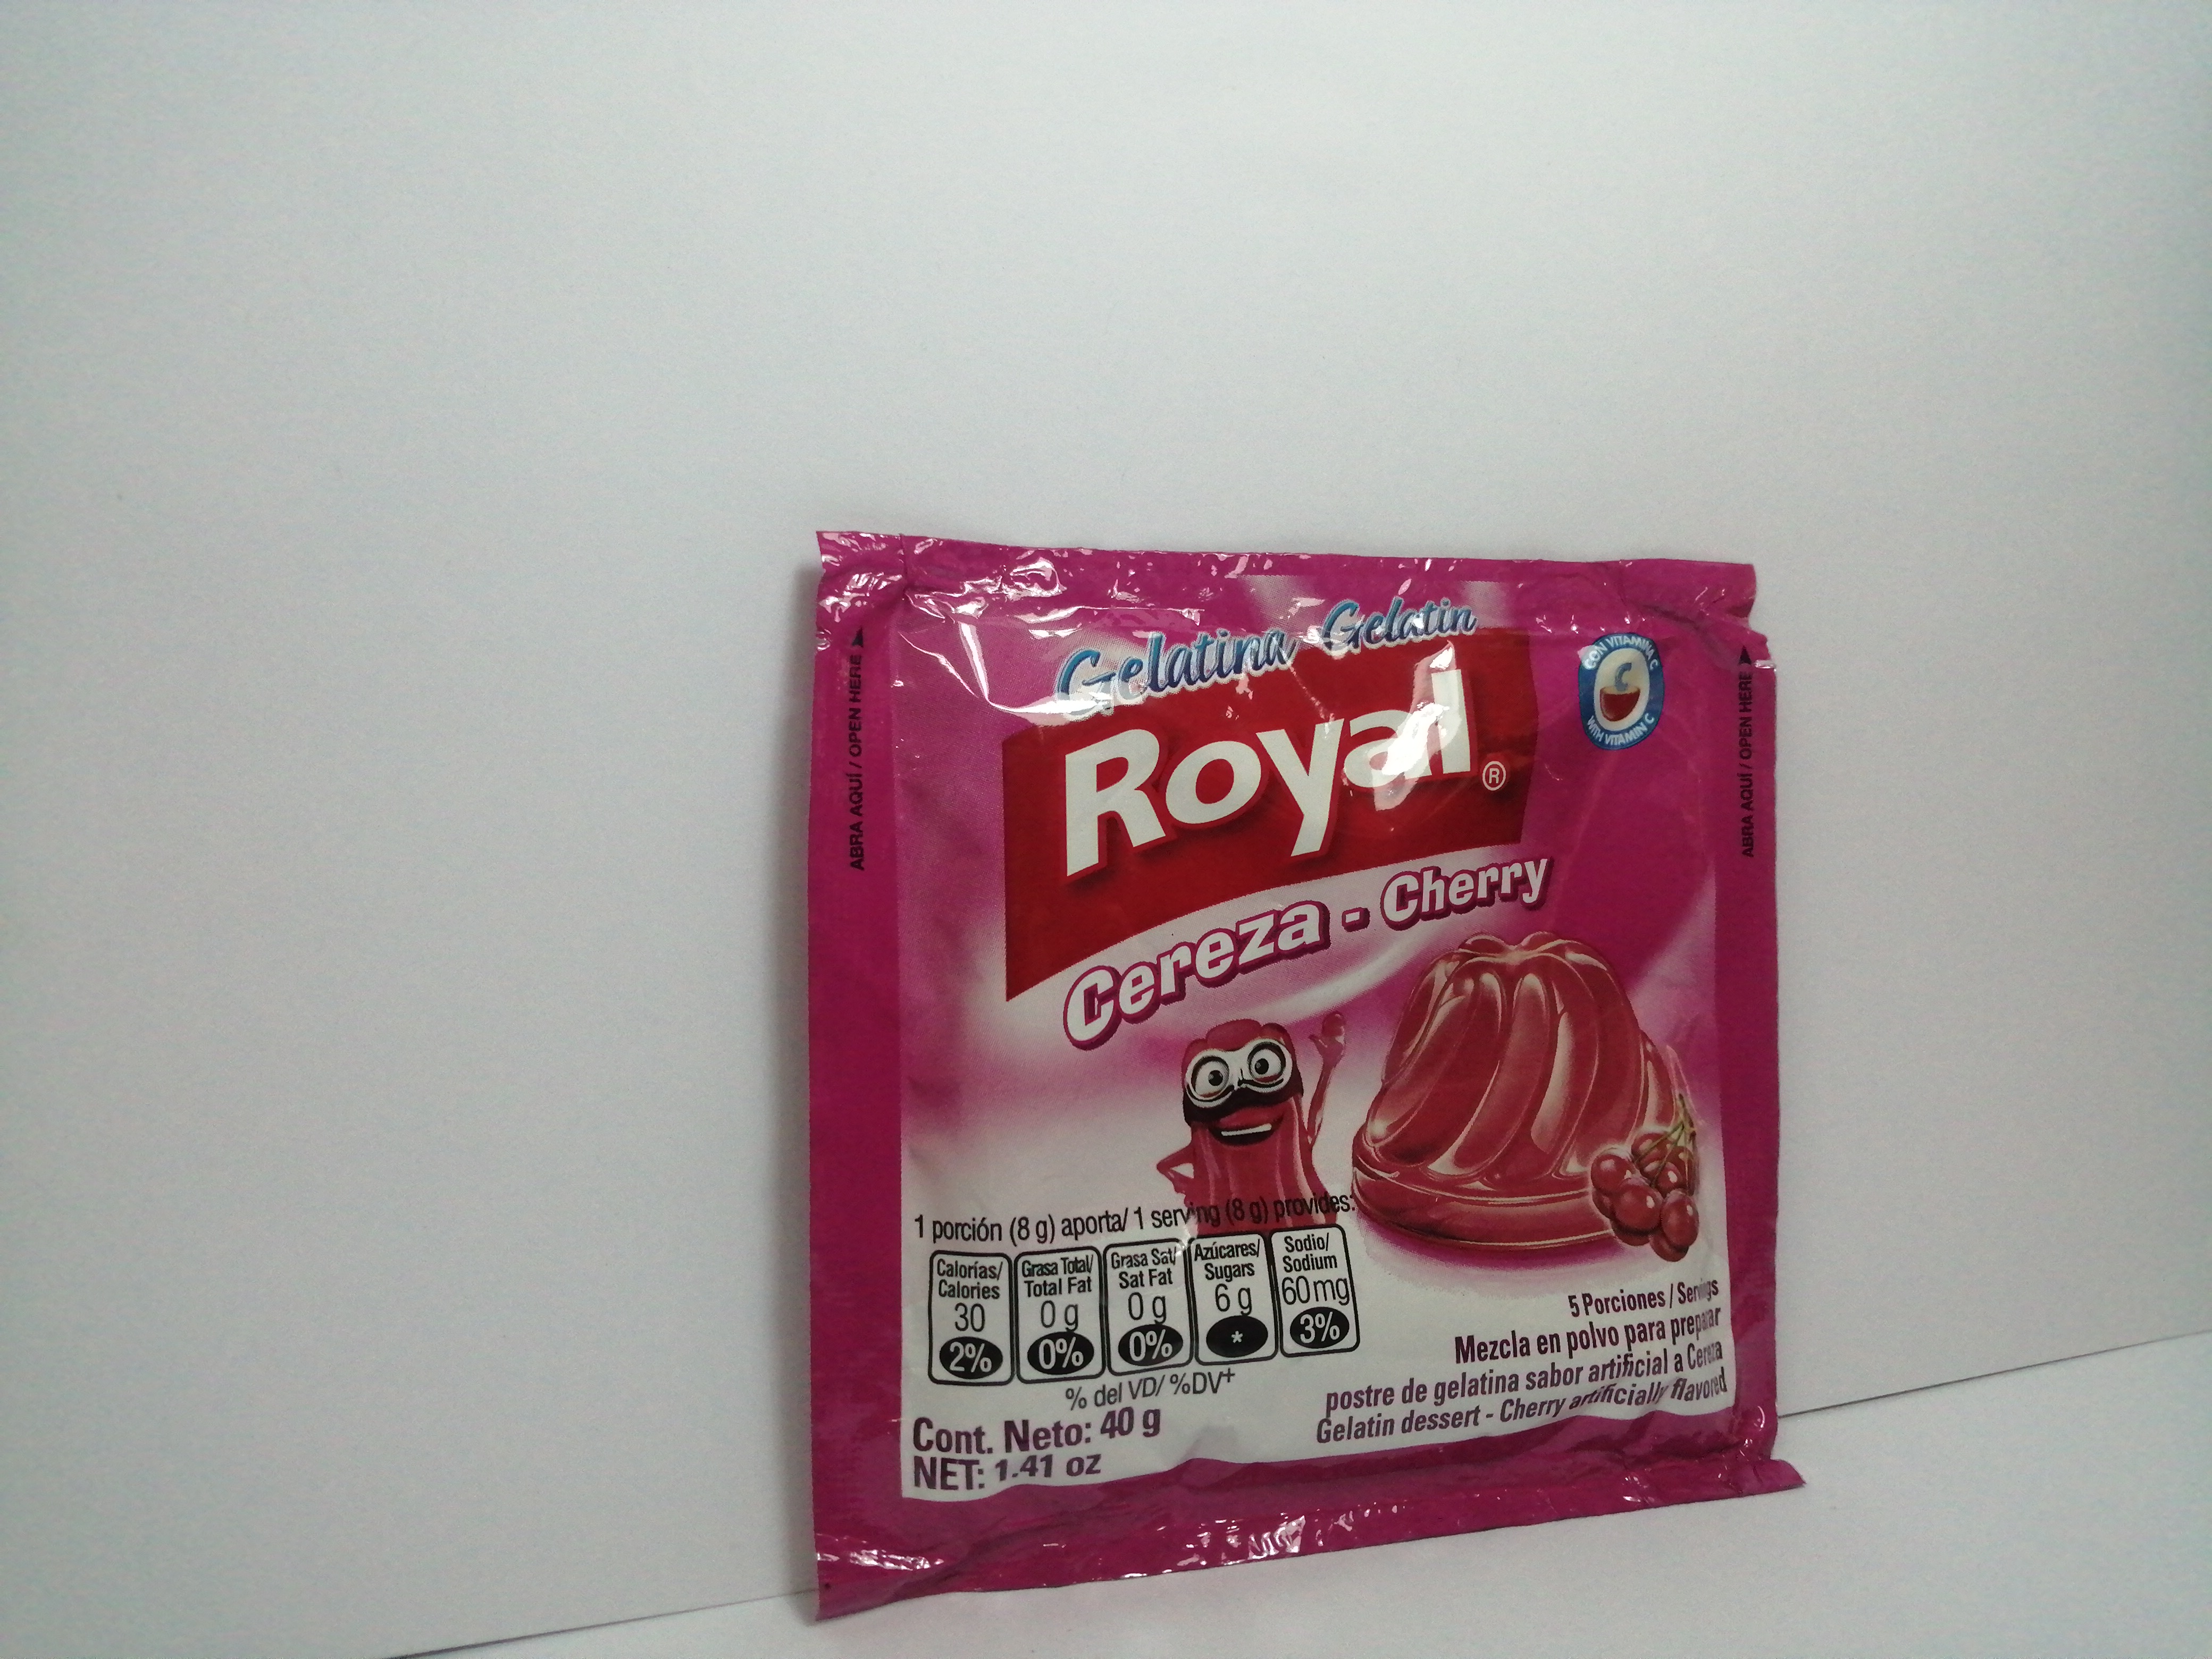gelatina: (817, 528, 1804, 1607)
